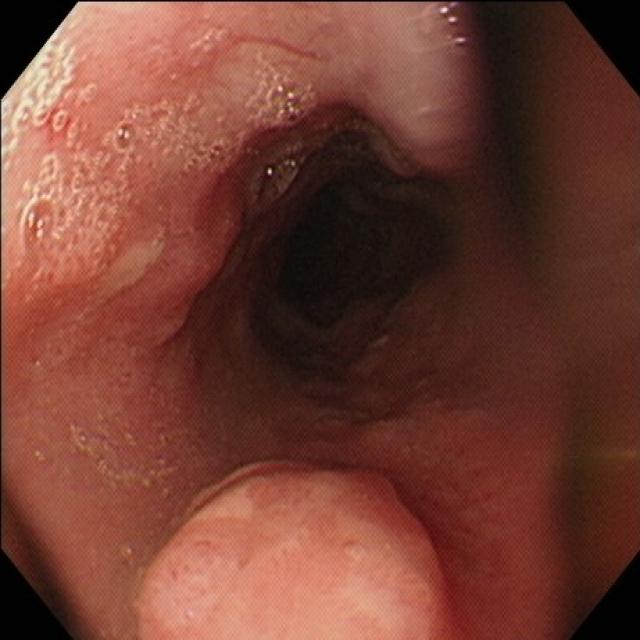A: (123, 450, 453, 640), (132, 183, 250, 347)
E: (258, 177, 429, 366)
T: (4, 40, 129, 281), (117, 95, 239, 163), (243, 56, 320, 130)
